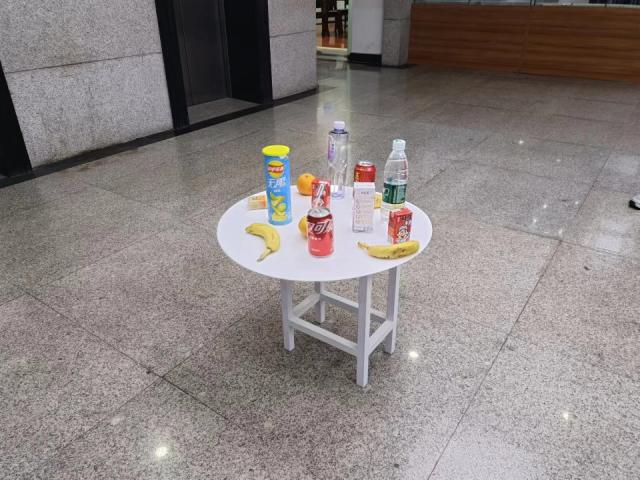Canned_drinks: (306, 206, 336, 259), (353, 160, 376, 200)
bottle: (381, 137, 409, 226), (326, 119, 349, 200)
cylinder: (261, 144, 294, 226)
drink_box: (352, 181, 376, 235), (387, 208, 413, 245), (311, 178, 330, 208)
